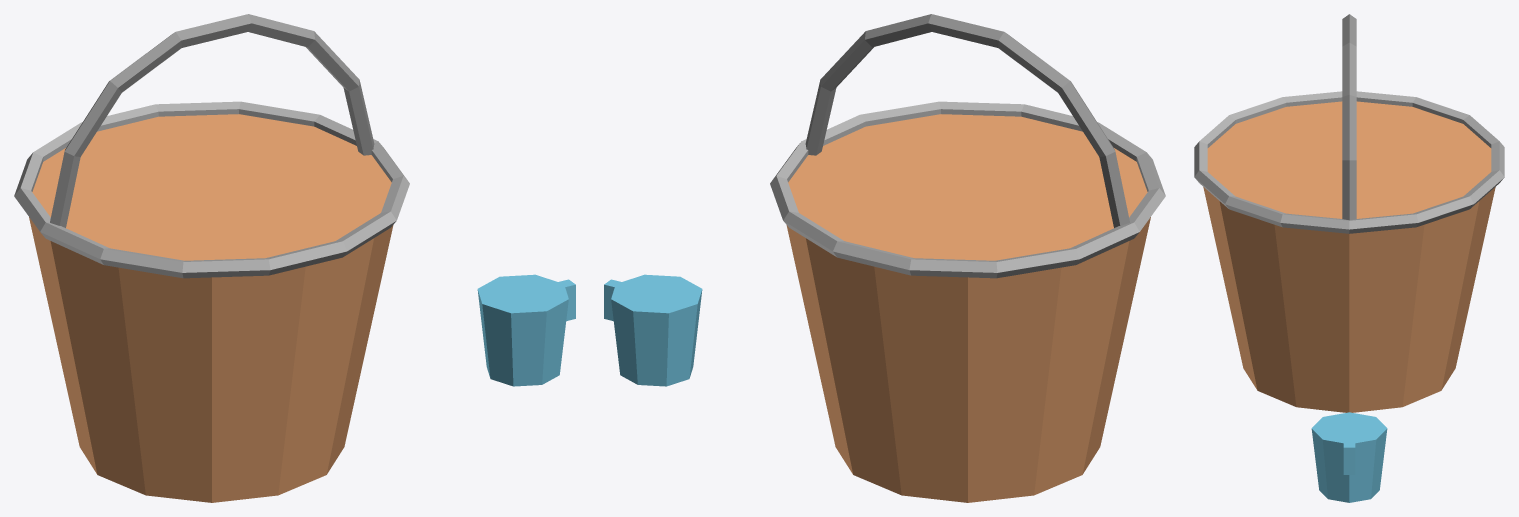
File: bucket-with-cup.glb
The picture shows the model from 3 angles, left to right: view 1: azimuth 30°, elevation 25°; view 2: azimuth 150°, elevation 25°; view 3: azimuth 270°, elevation 25°; orthographic projection. The views are drawn at different scales.
Parts seen in each view (by area): view 1: bucket-with-cup_Cone, bucket-with-cup_Torus.002, bucket-with-cup_Torus.003, bucket-with-cup_Cone.001; view 2: bucket-with-cup_Cone, bucket-with-cup_Torus.002, bucket-with-cup_Torus.003, bucket-with-cup_Cone.001; view 3: bucket-with-cup_Cone, bucket-with-cup_Torus.002, bucket-with-cup_Cone.001, bucket-with-cup_Torus.003, bucket-with-cup_Cube.
Boxes of the visible parts, bbox=[...] form: bucket-with-cup_Cone: bbox=[29, 114, 393, 502]; bucket-with-cup_Torus.002: bbox=[14, 101, 409, 278]; bucket-with-cup_Torus.003: bbox=[50, 14, 374, 227]; bucket-with-cup_Cone.001: bbox=[477, 274, 568, 386]; bucket-with-cup_Cone: bbox=[786, 114, 1150, 502]; bucket-with-cup_Torus.002: bbox=[770, 101, 1165, 278]; bucket-with-cup_Torus.003: bbox=[805, 14, 1129, 227]; bucket-with-cup_Cone.001: bbox=[611, 274, 702, 386]; bucket-with-cup_Cone: bbox=[1203, 101, 1495, 412]; bucket-with-cup_Torus.002: bbox=[1194, 91, 1504, 233]; bucket-with-cup_Cone.001: bbox=[1311, 412, 1387, 502]; bucket-with-cup_Torus.003: bbox=[1342, 14, 1356, 220]; bucket-with-cup_Cube: bbox=[1343, 440, 1355, 474].
Bounding box in the file's own units: 0.65 × 0.495 × 0.4095.
